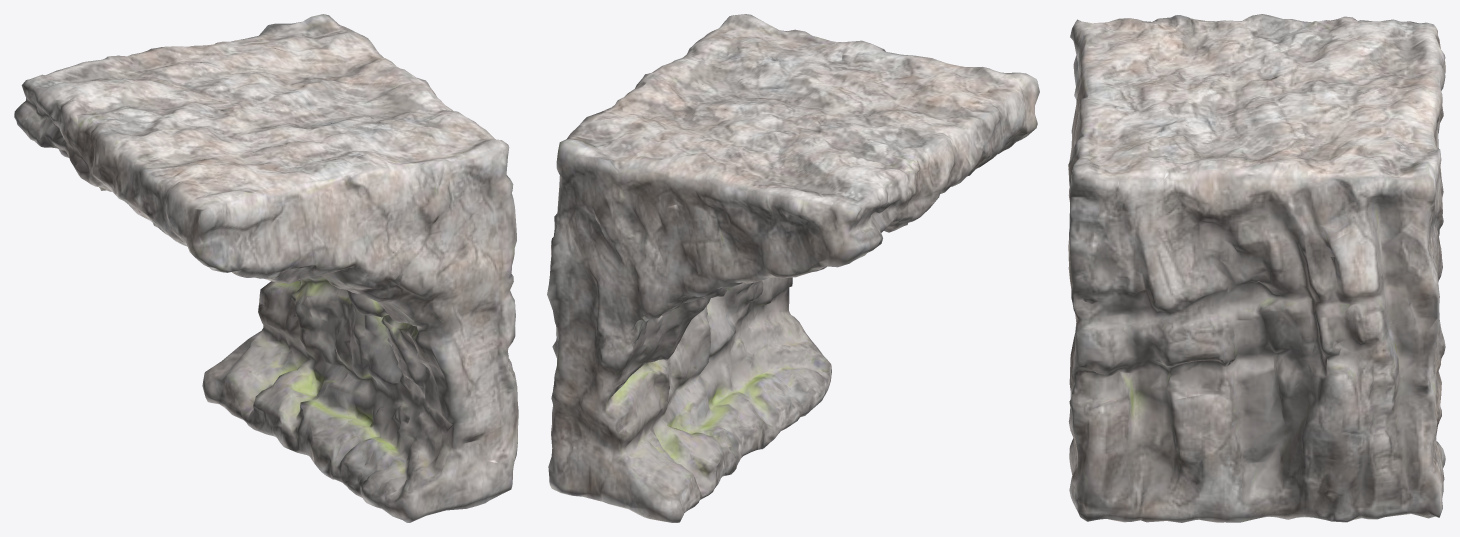
The model's file is SM_rock_04.glb.
The picture shows the model from 3 angles, left to right: view 1: azimuth 30°, elevation 25°; view 2: azimuth 150°, elevation 25°; view 3: azimuth 270°, elevation 25°; orthographic projection.
Parts seen in each view (by area): view 1: SM_rock_04; view 2: SM_rock_04; view 3: SM_rock_04.
Boxes of the visible parts, box(x1,y1,x2,y2) form: SM_rock_04: box(14, 14, 518, 522); SM_rock_04: box(547, 14, 1039, 522); SM_rock_04: box(1068, 14, 1445, 522).
Bounding box in the file's own units: 17.9 × 18.02 × 16.52.
1 material, 1 textured.
